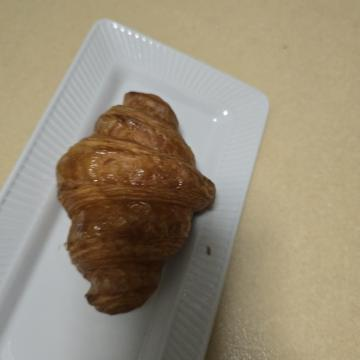croissant: (83, 136, 329, 312)
